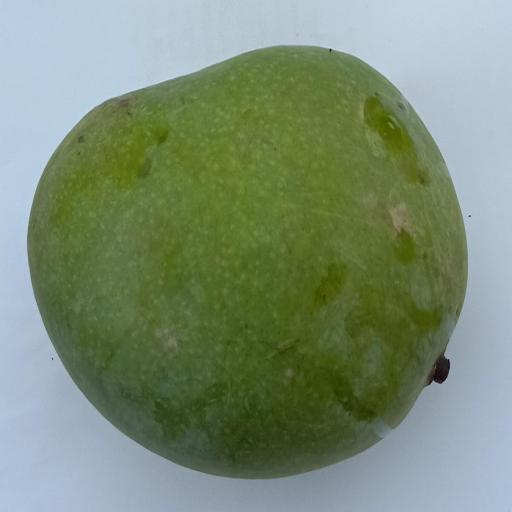mango-unripe: (12, 30, 512, 475)
